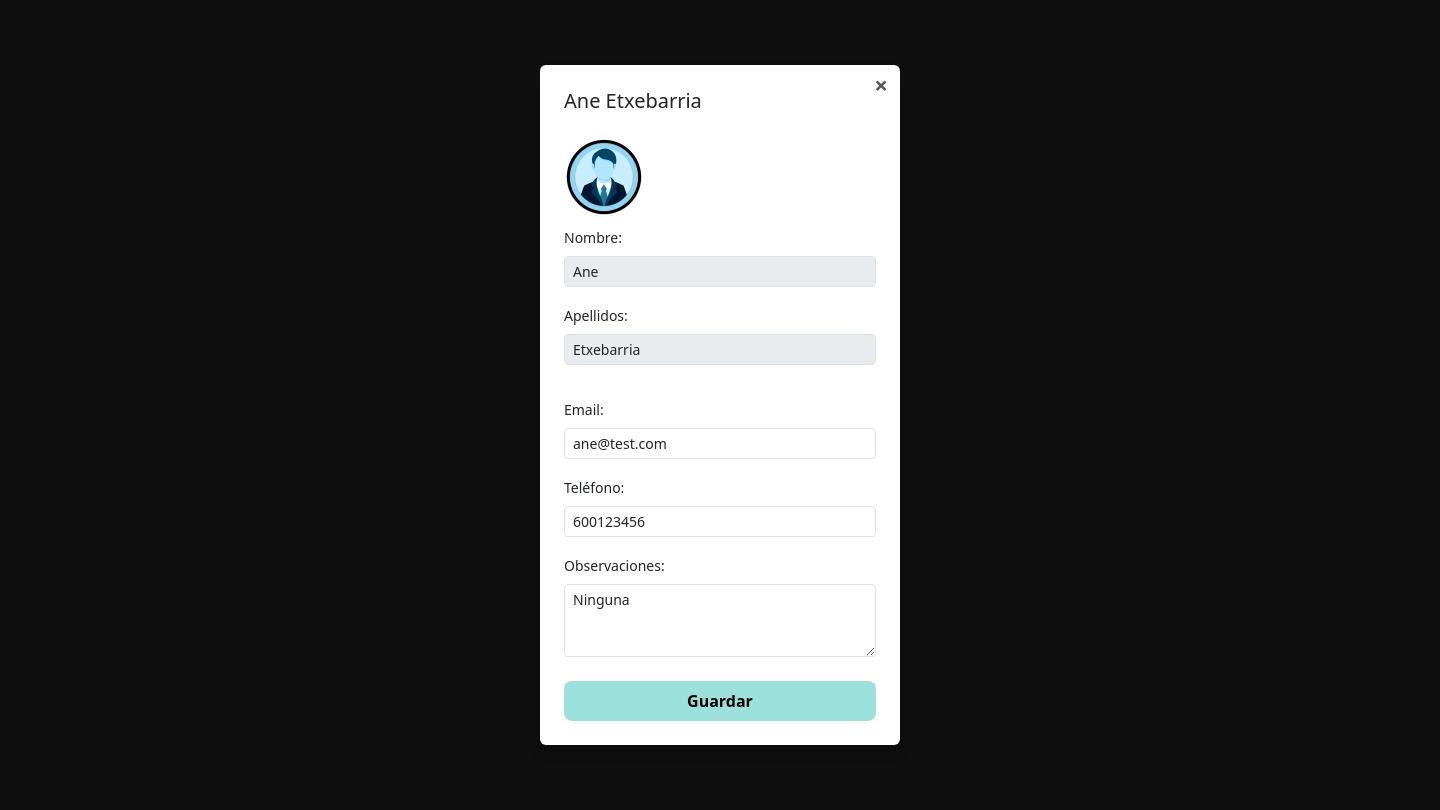
Scenario: ModalVerCliente › muestra error si el email tiene formato incorrecto
Replace the text in the field below "Email:" with "no-es-un-email": (720, 444) [564,428,876,459]
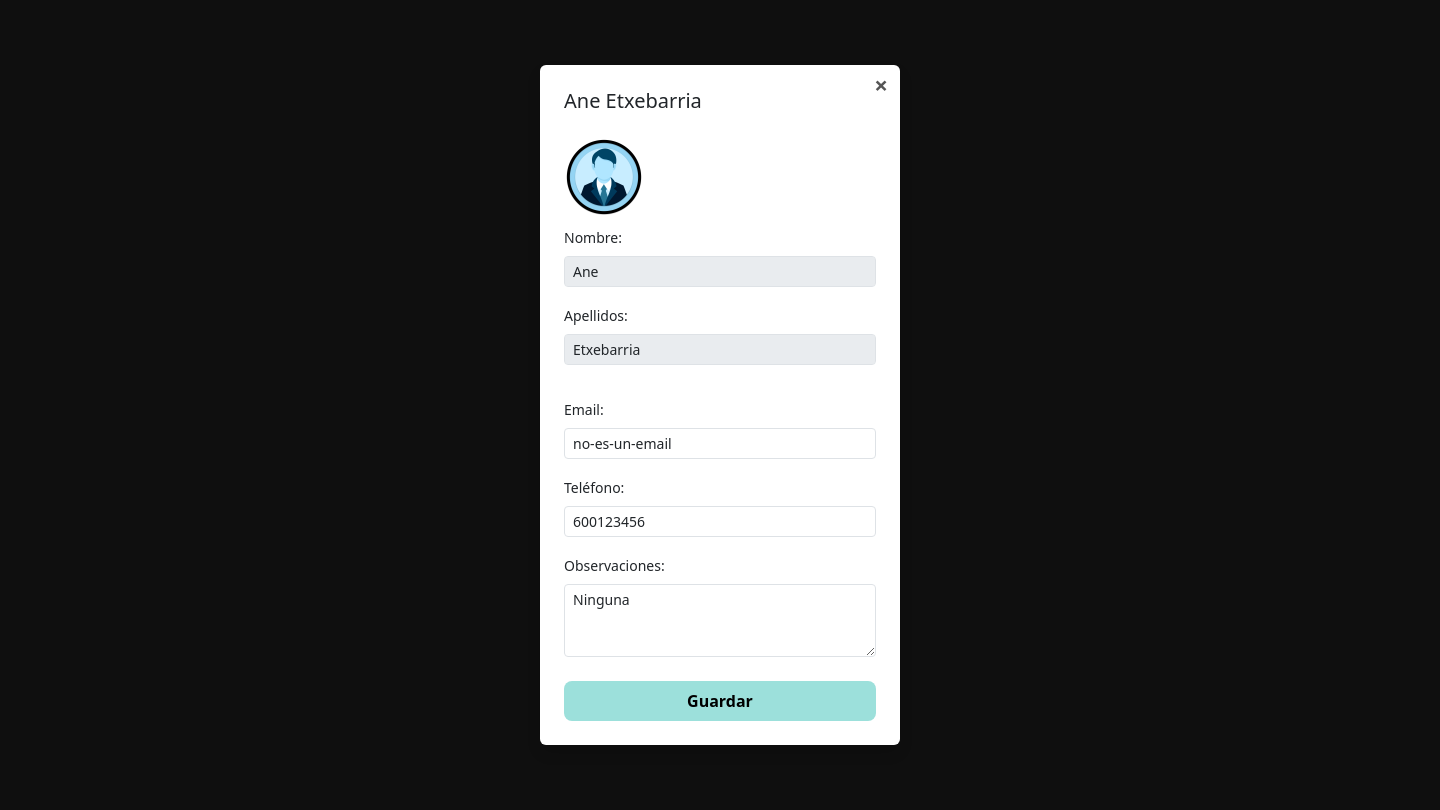
Click the button "Guardar": click(720, 701) [564,681,876,721]
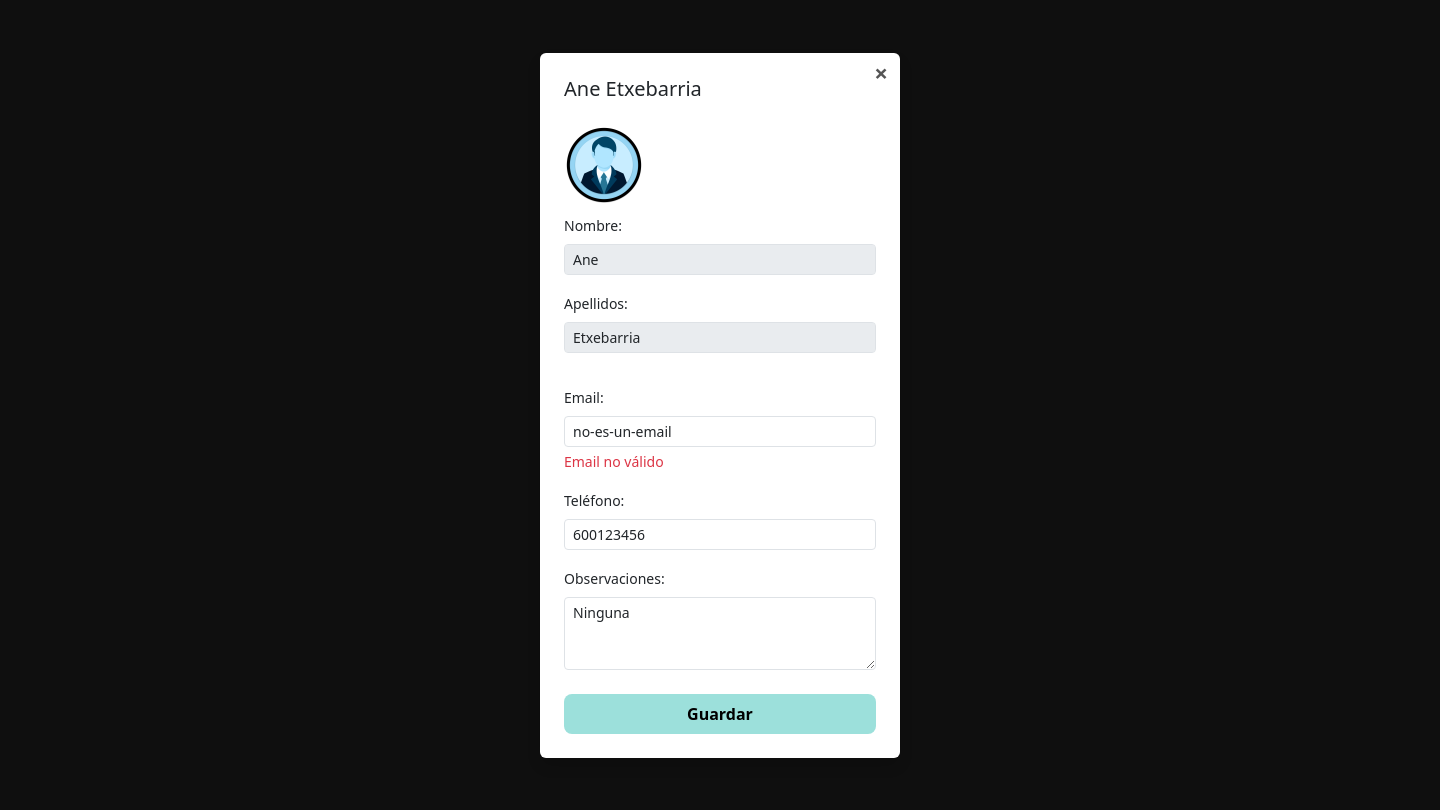
Check: the text "Email no válido" is shown, box [564,452,664,470]
